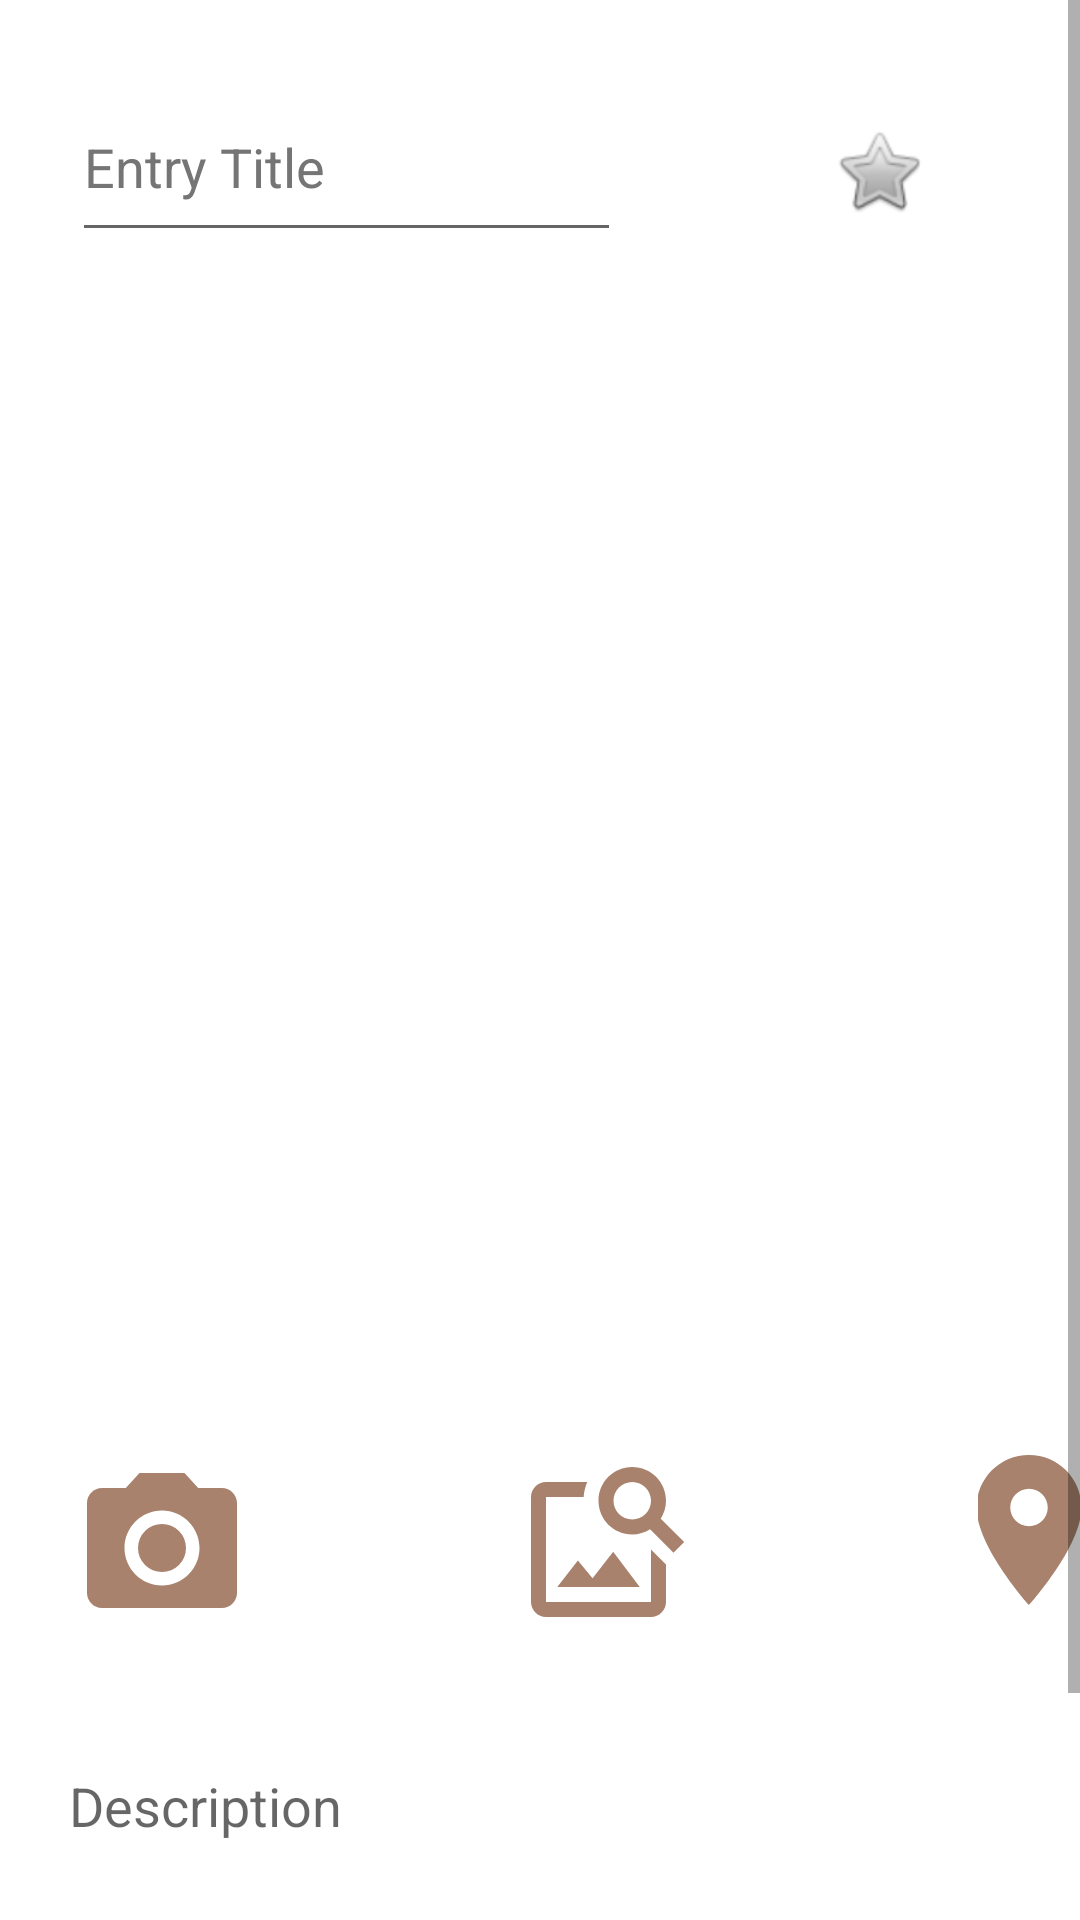

Locate icon controls on the screen. Image size 1080×1920, boxes as (x1, y1, x2, y2).
camera: (87, 1473, 237, 1608)
gallery: (531, 1467, 684, 1617)
location on: (978, 1440, 1080, 1620)
star: (840, 133, 920, 211)
